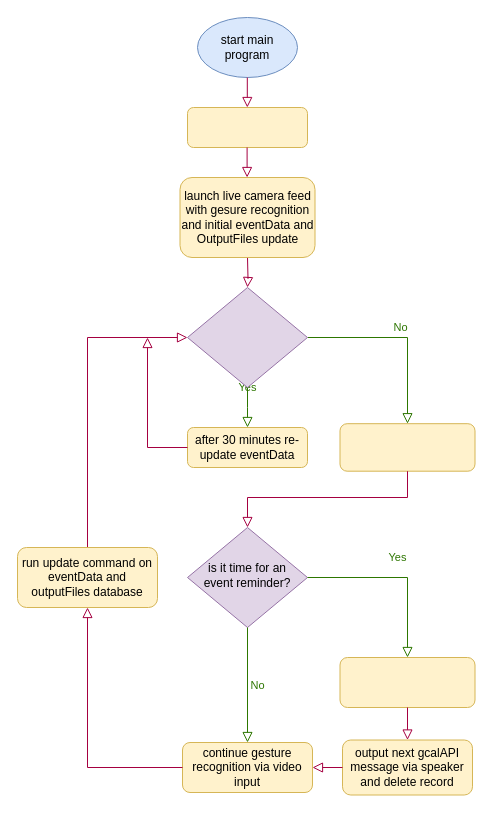
This 493x813 diagram has some shape labels left out. Each missing label, with the centre of its shape:
"contrinue running current eventData cycle" belongs at point 407,447.
"is eventData database empty?" belongs at point 247,337.
"link to gcalAPI and HandModel class" belongs at point 247,127.
"pause gesture recognition but continue live feed" belongs at point 407,682.
